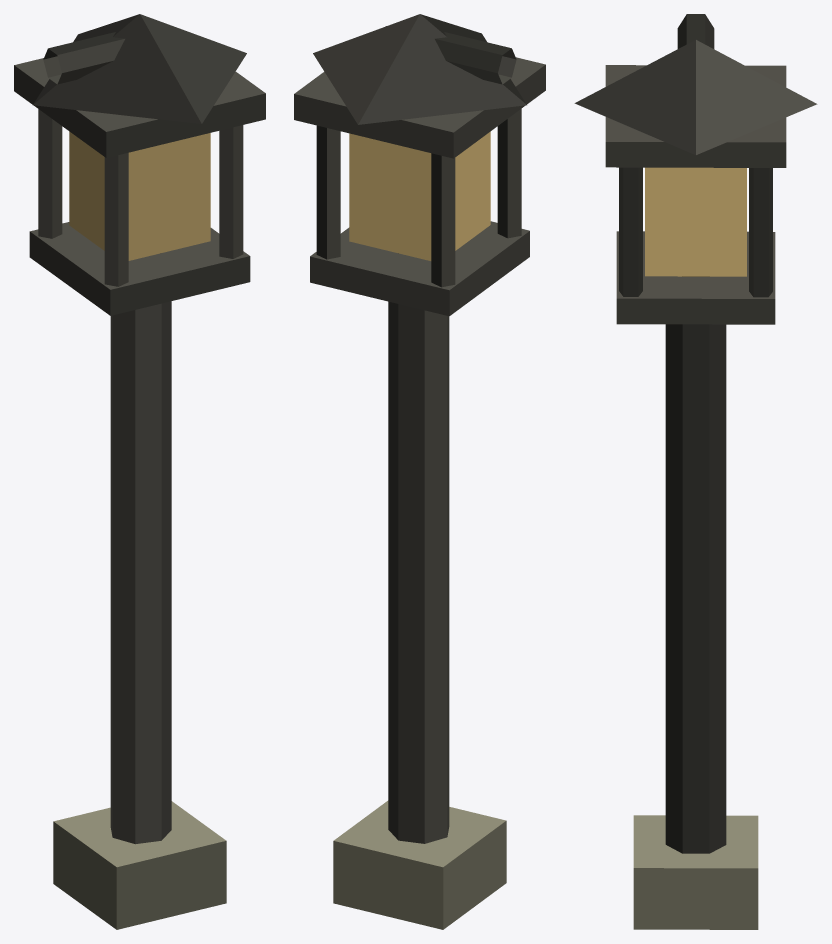
3 renders of one model, left to right at view 1: azimuth 30°, elevation 25°; view 2: azimuth 150°, elevation 25°; view 3: azimuth 270°, elevation 25°, orthographic.
Parts seen in each view (by area): view 1: d3a5fdb785e97840fc6968e39d261a90cb9634ce9f0ae028b358c5326c56; view 2: d3a5fdb785e97840fc6968e39d261a90cb9634ce9f0ae028b358c5326c56; view 3: d3a5fdb785e97840fc6968e39d261a90cb9634ce9f0ae028b358c5326c56.
Part boxes in pixels (x1,y1,x2,y2): d3a5fdb785e97840fc6968e39d261a90cb9634ce9f0ae028b358c5326c56: (14,14,265,929); d3a5fdb785e97840fc6968e39d261a90cb9634ce9f0ae028b358c5326c56: (294,14,545,929); d3a5fdb785e97840fc6968e39d261a90cb9634ce9f0ae028b358c5326c56: (574,14,817,929).
Bounding box in the file's own units: 0.86 × 3.37 × 0.86.
2 materials, 1 textured.
